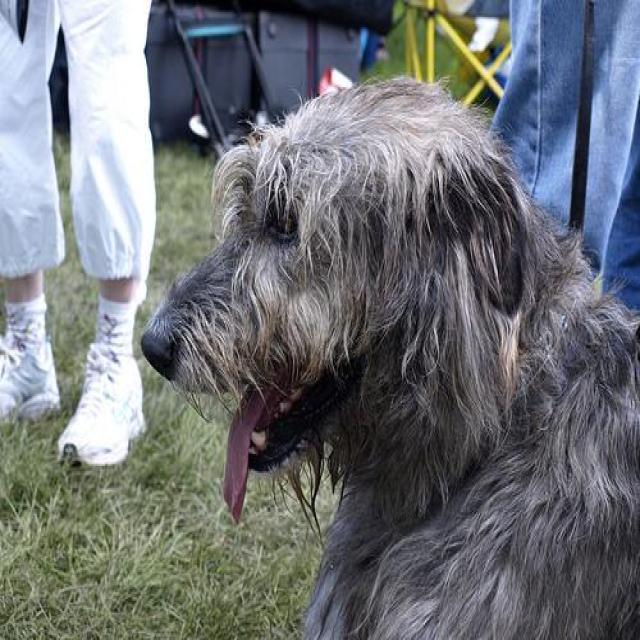adult_dog: (141, 78, 640, 640)
non-dog: (0, 2, 153, 467), (493, 1, 640, 309)
